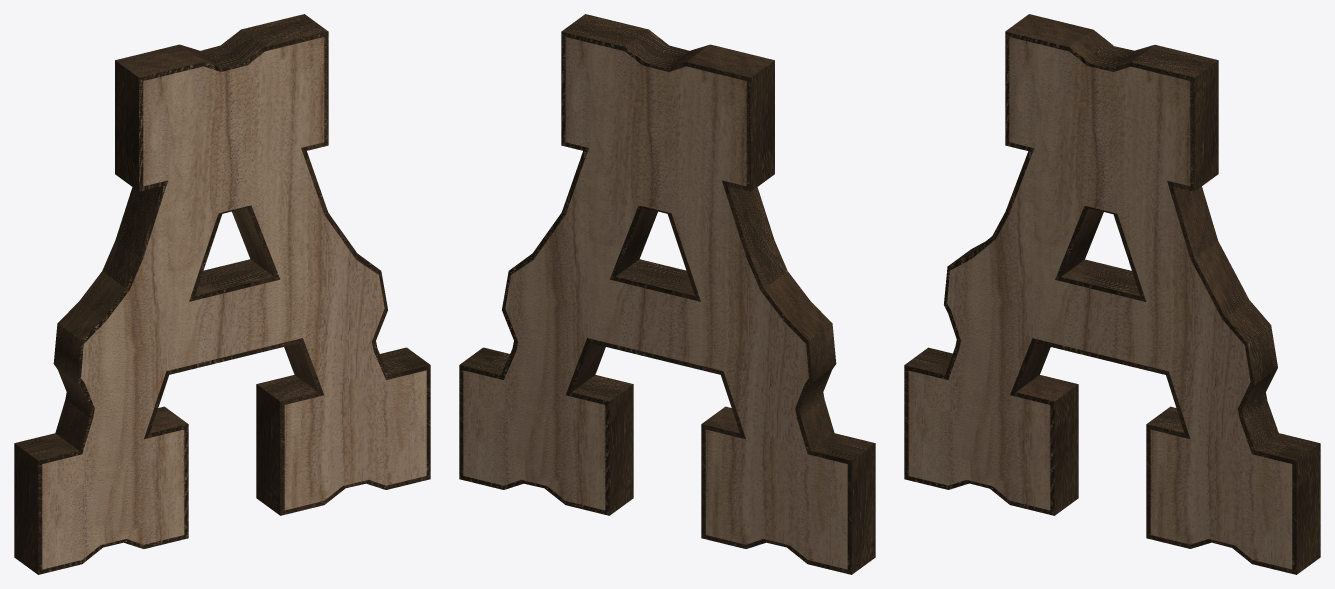
The picture shows the model from 3 angles, left to right: view 1: azimuth 30°, elevation 25°; view 2: azimuth 150°, elevation 25°; view 3: azimuth 330°, elevation 25°; orthographic projection.
Parts seen in each view (by area): view 1: A, A_outline; view 2: A, A_outline; view 3: A, A_outline.
Part boxes in pixels (bbox=[...]): A: bbox=[42, 37, 426, 569]; A_outline: bbox=[14, 14, 430, 574]; A: bbox=[463, 37, 847, 569]; A_outline: bbox=[459, 14, 875, 574]; A: bbox=[908, 37, 1292, 569]; A_outline: bbox=[904, 14, 1320, 574].
Bounding box in the file's own units: 94.55 × 109 × 10.
Materials: 2 (2 with a texture image).
